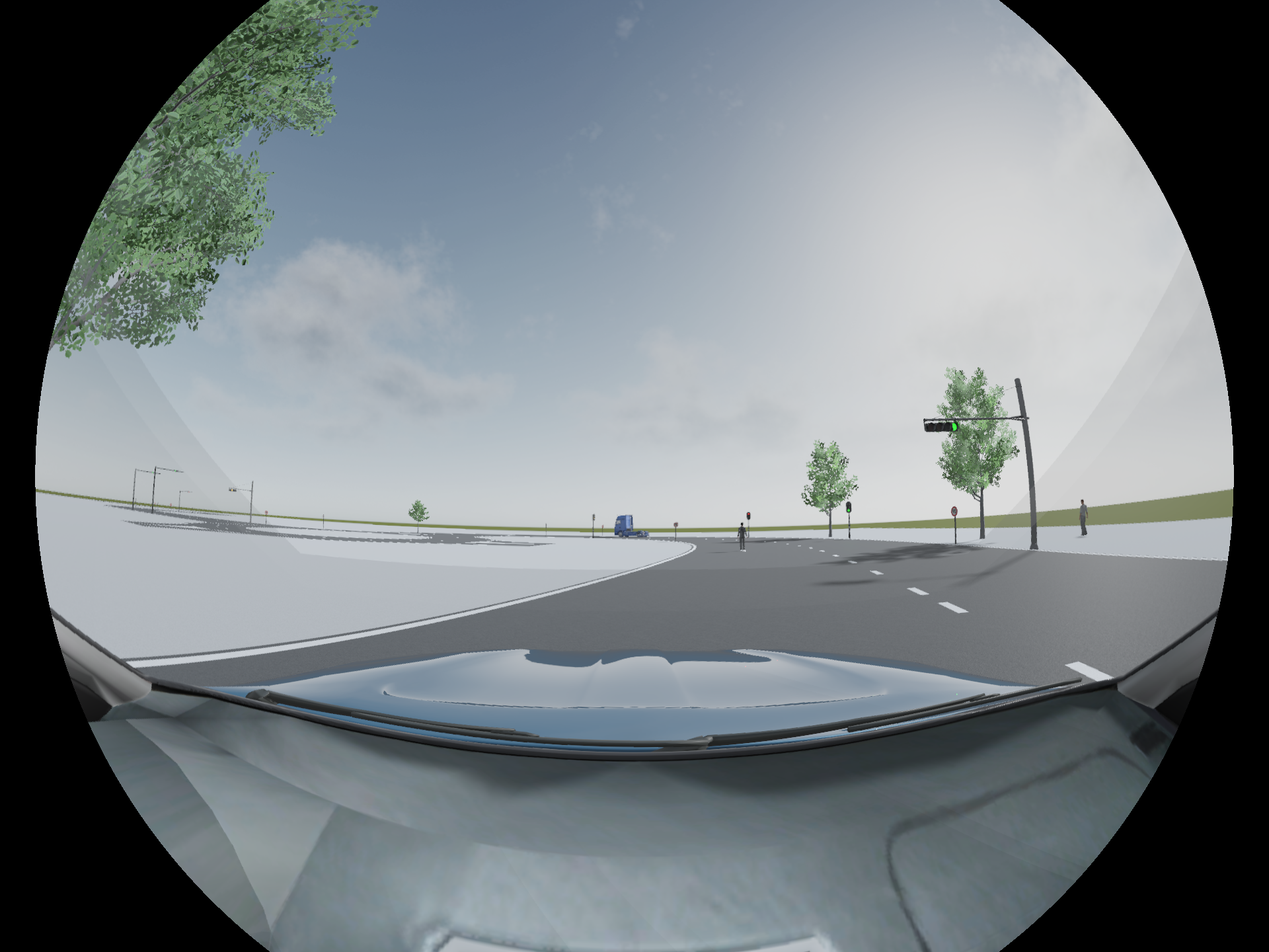Green Light: (924, 421, 958, 432), (846, 501, 851, 513)
Red Light: (747, 512, 750, 519)
Speed Limit 90: (951, 506, 957, 516)
